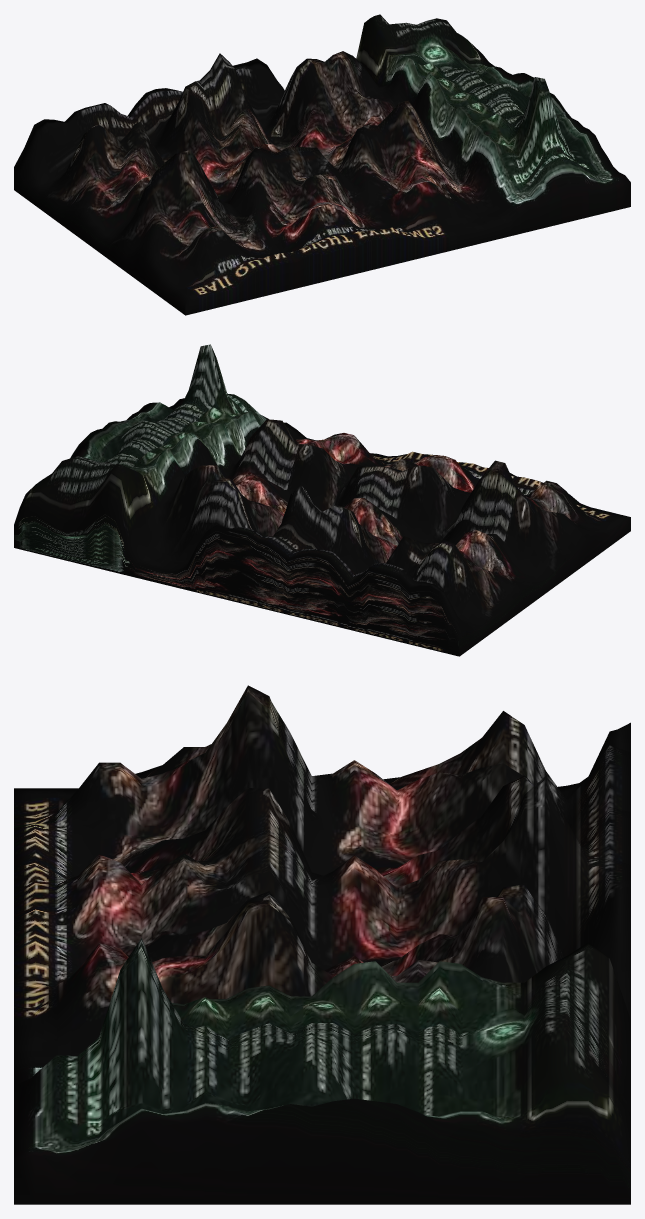
The model's file is CUL_43_Baji_Quan.glb.
3 renders of one model, top to bottom at view 1: azimuth 30°, elevation 25°; view 2: azimuth 150°, elevation 25°; view 3: azimuth 270°, elevation 25°, orthographic. The views are drawn at different scales.
Visible parts, largest first — view 1: CUL_43_Baji_Quan; view 2: CUL_43_Baji_Quan; view 3: CUL_43_Baji_Quan.
Boxes of the visible parts, <box> form: CUL_43_Baji_Quan: <box>14,14,630,315</box>; CUL_43_Baji_Quan: <box>14,344,630,656</box>; CUL_43_Baji_Quan: <box>14,685,630,1204</box>.
Bounding box in the file's own units: 2 × 0.51 × 1.33.
Materials: 1 (1 with a texture image).
